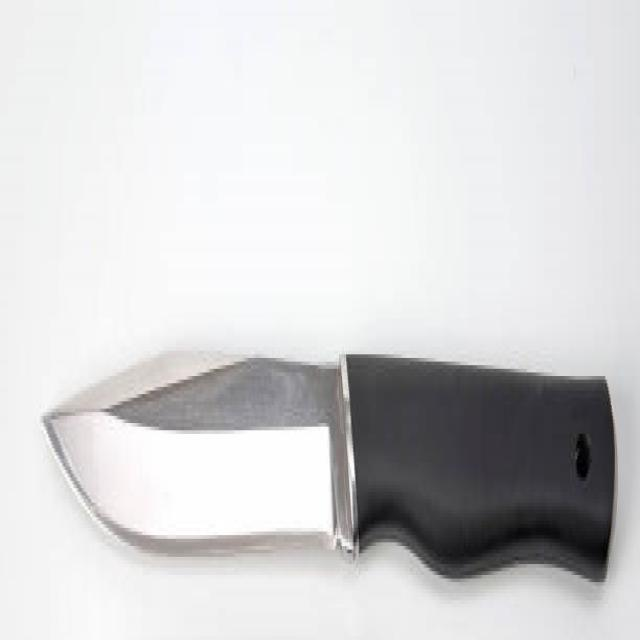knife: (36, 322, 619, 581)
